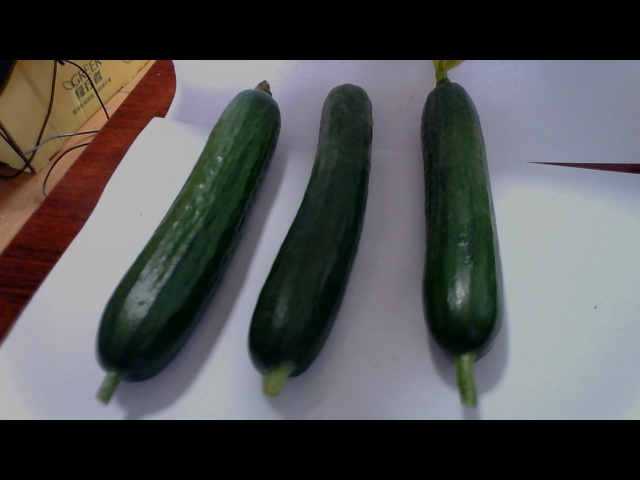cucumber: (101, 68, 377, 400), (420, 61, 496, 396)
